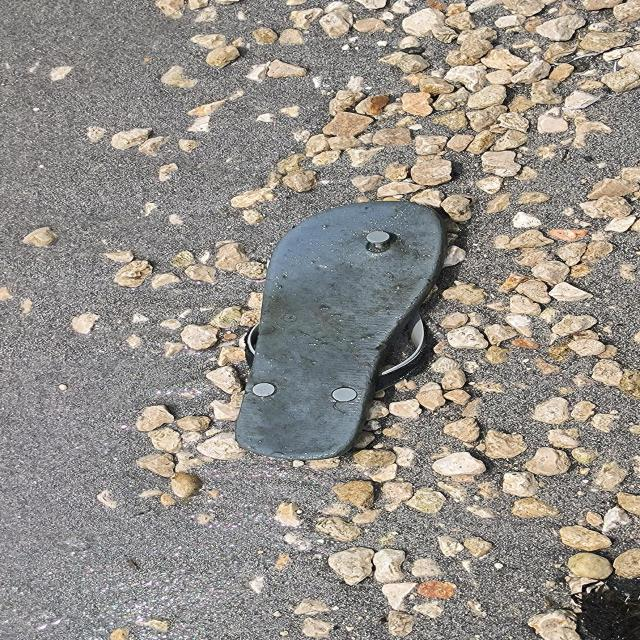rubber_waste: (235, 201, 450, 462)
